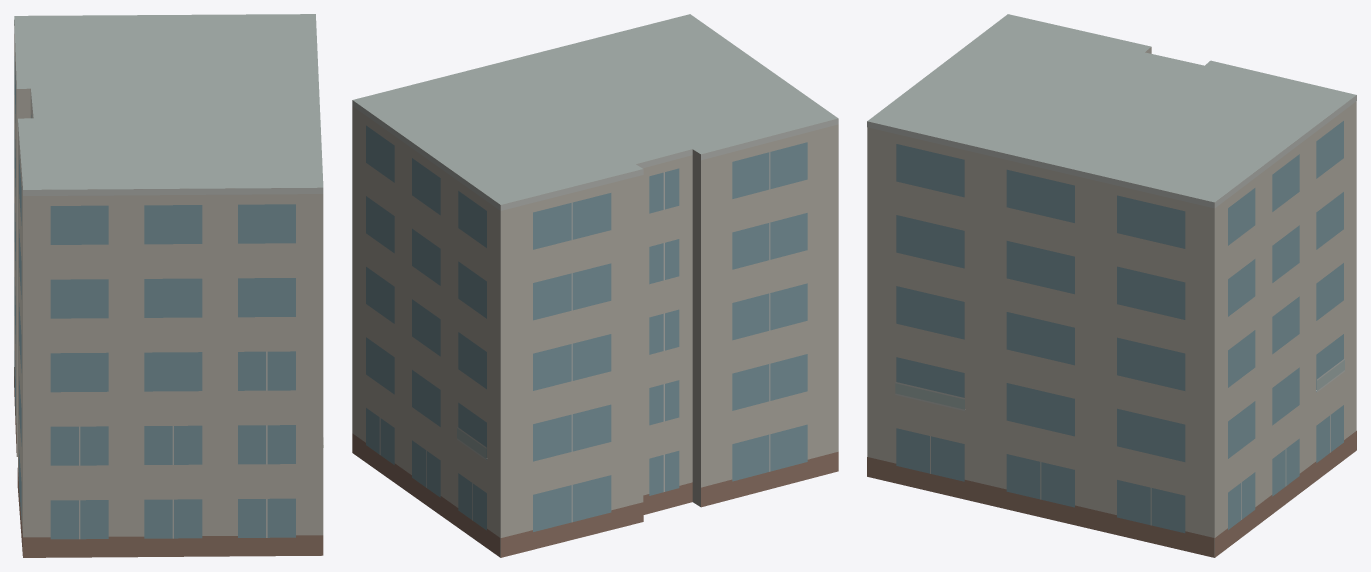
The model's file is survey-upis-32869811.glb.
3 renders of one model, left to right at view 1: azimuth 30°, elevation 25°; view 2: azimuth 150°, elevation 25°; view 3: azimuth 270°, elevation 25°, orthographic. The views are drawn at different scales.
Visible parts, largest first — view 1: survey-upis-32869811.tmp; view 2: survey-upis-32869811.tmp; view 3: survey-upis-32869811.tmp.
Part boxes in pixels (<box>): survey-upis-32869811.tmp: <box>14,14,323,557</box>; survey-upis-32869811.tmp: <box>352,14,838,557</box>; survey-upis-32869811.tmp: <box>867,14,1356,557</box>.
Size of the model in its own units: 16.42 by 14.43 by 18.02.
